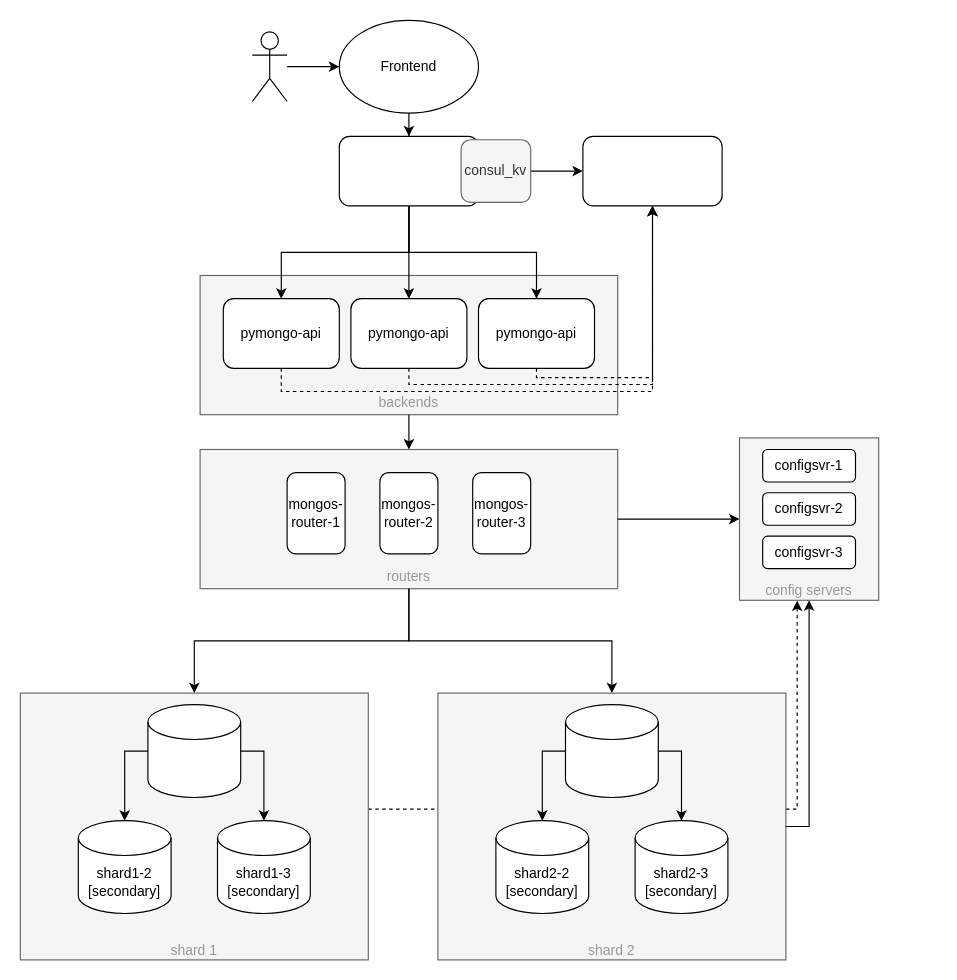
This 957x980 diagram has some shape labels left out. Here are the shapes that lost their labels. From the top down, the centre of each, then its label:
the point at 269,66: Client
the point at 408,170: API Gateway
the point at 652,170: Consul
the point at 194,751: shard1-1 [primary]
the point at 611,751: shard2-1 [primary]
